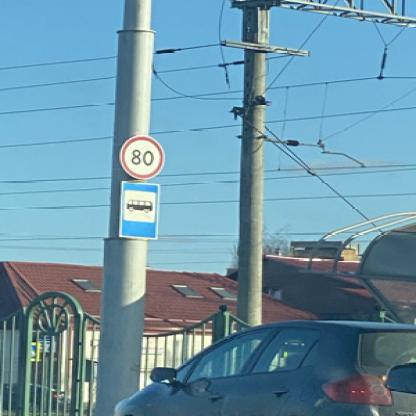speedlimit: (118, 134, 162, 177)
